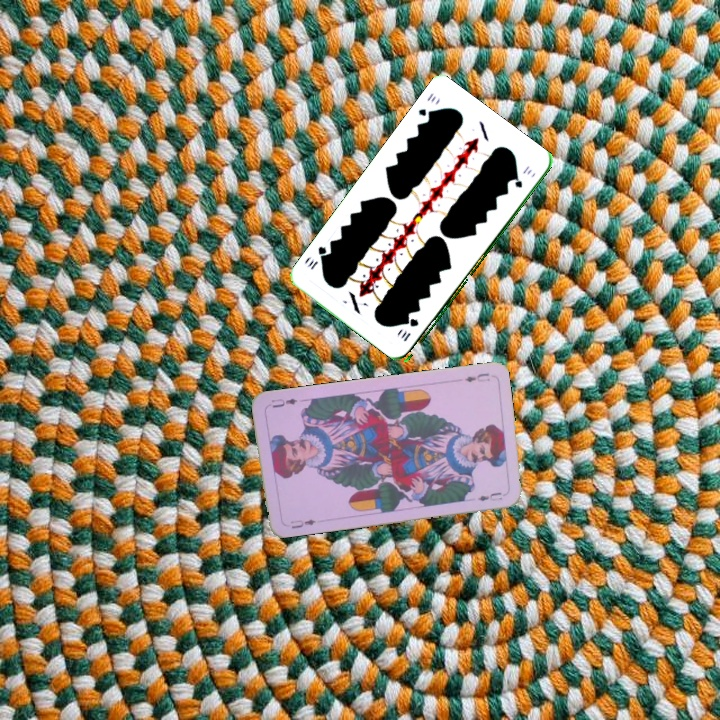EU: (287, 515, 318, 531), (461, 369, 492, 385)
G10: (414, 89, 438, 122), (397, 315, 421, 344)
